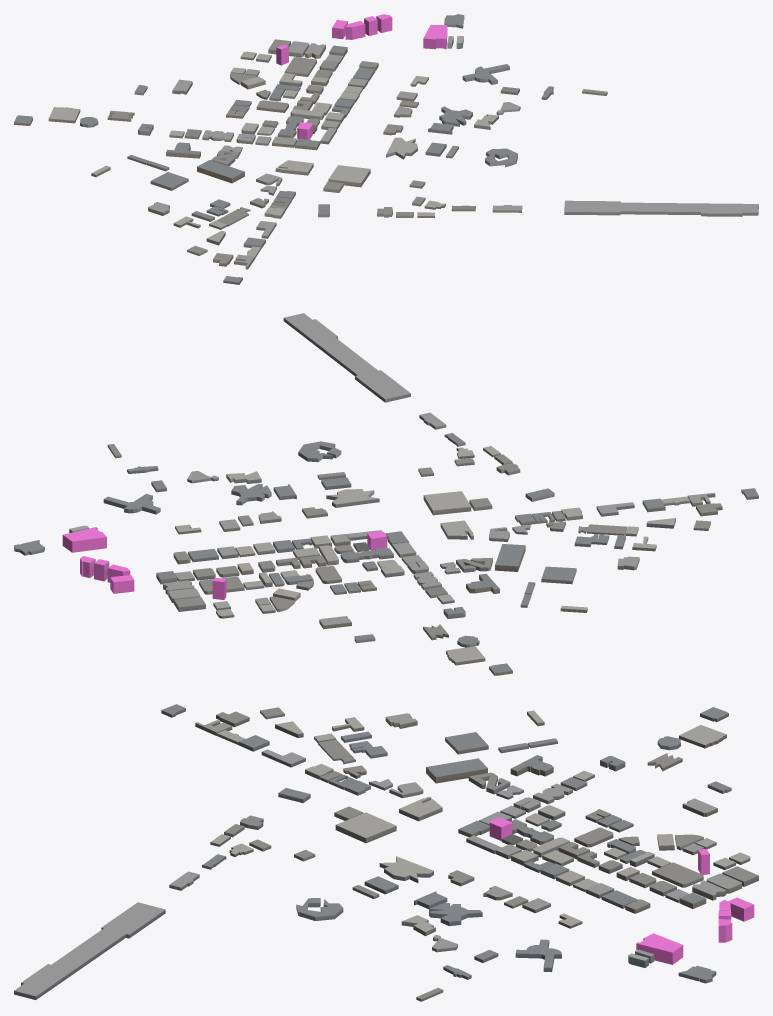
The model's file is bld_16_13.fbx.
The picture shows the model from 3 angles, top to bottom: view 1: azimuth 30°, elevation 25°; view 2: azimuth 150°, elevation 25°; view 3: azimuth 270°, elevation 25°; orthographic projection. The views are drawn at different scales.
Parts seen in each view (by area): view 1: bld_16_13_LOD0, bld_16_13_COL; view 2: bld_16_13_LOD0, bld_16_13_COL; view 3: bld_16_13_LOD0, bld_16_13_COL.
Part boxes in pixels (x1,y1,x2,y2): bld_16_13_LOD0: (14, 14, 758, 284); bld_16_13_COL: (276, 14, 447, 139); bld_16_13_LOD0: (14, 313, 758, 675); bld_16_13_COL: (62, 527, 387, 599); bld_16_13_LOD0: (14, 704, 758, 1001); bld_16_13_COL: (489, 817, 754, 964).
Size of what is drawn, in the model's own units: 2030 by 64.27 by 2169.
